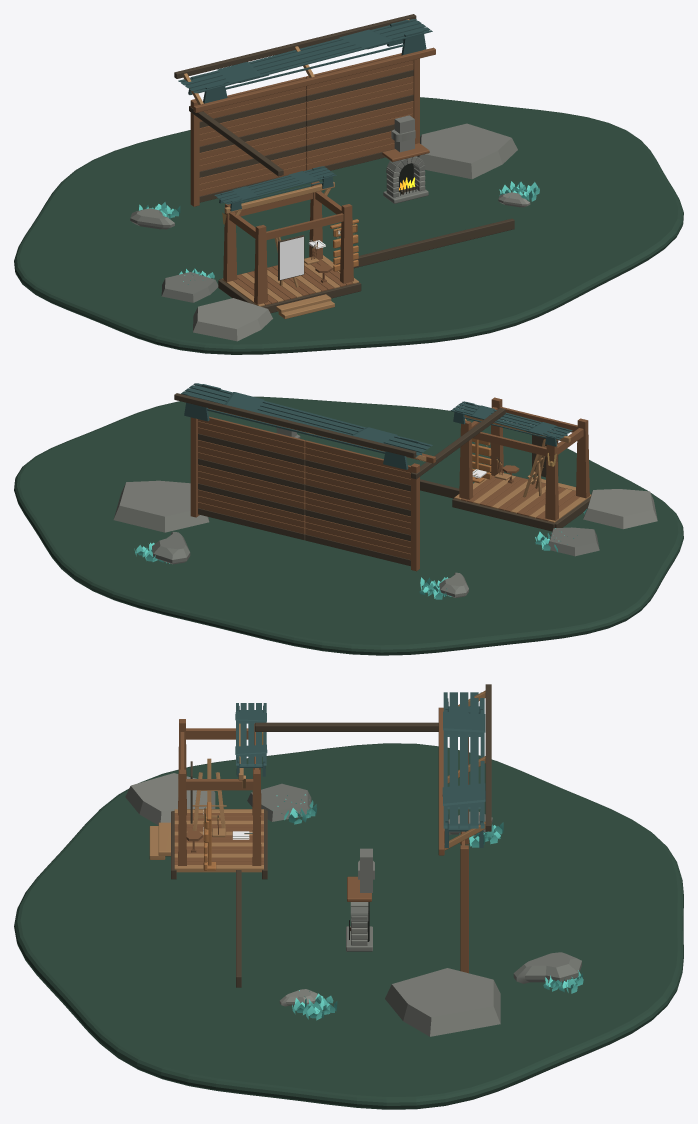
The model's file is midnight-cabin-world.glb.
3 renders of one model, top to bottom at view 1: azimuth 30°, elevation 25°; view 2: azimuth 150°, elevation 25°; view 3: azimuth 270°, elevation 25°, orthographic. The views are drawn at different scales.
Visible parts, largest first — view 1: ForestGround.004, CabinArchitecture.004, AttachedArtPorch.004, Fireplace.004, ArtEasel.004; view 2: ForestGround.004, CabinArchitecture.004, AttachedArtPorch.004, ArtEasel.004; view 3: ForestGround.004, CabinArchitecture.004, AttachedArtPorch.004, Fireplace.004, ArtEasel.004.
Boxes of the visible parts, <box> form: ForestGround.004: <box>14,97,683,354</box>; CabinArchitecture.004: <box>174,14,514,268</box>; AttachedArtPorch.004: <box>214,166,361,319</box>; Fireplace.004: <box>382,115,429,203</box>; ArtEasel.004: <box>274,235,304,287</box>; ForestGround.004: <box>14,396,683,655</box>; CabinArchitecture.004: <box>174,383,505,571</box>; AttachedArtPorch.004: <box>450,397,591,531</box>; ArtEasel.004: <box>523,435,558,497</box>; ForestGround.004: <box>14,743,683,1109</box>; CabinArchitecture.004: <box>236,684,491,987</box>; AttachedArtPorch.004: <box>149,703,267,879</box>; Fireplace.004: <box>346,848,374,951</box>; ArtEasel.004: <box>190,758,226,834</box>.
Size of the model in its own units: 21.83 by 5.04 by 17.21.
Materials: 44 (3 with a texture image).
